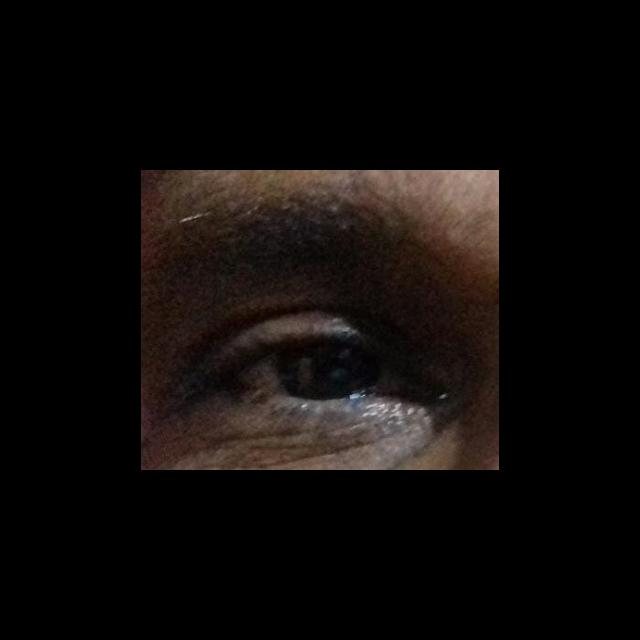eye: (225, 339, 398, 399)
iris: (279, 344, 381, 396)
